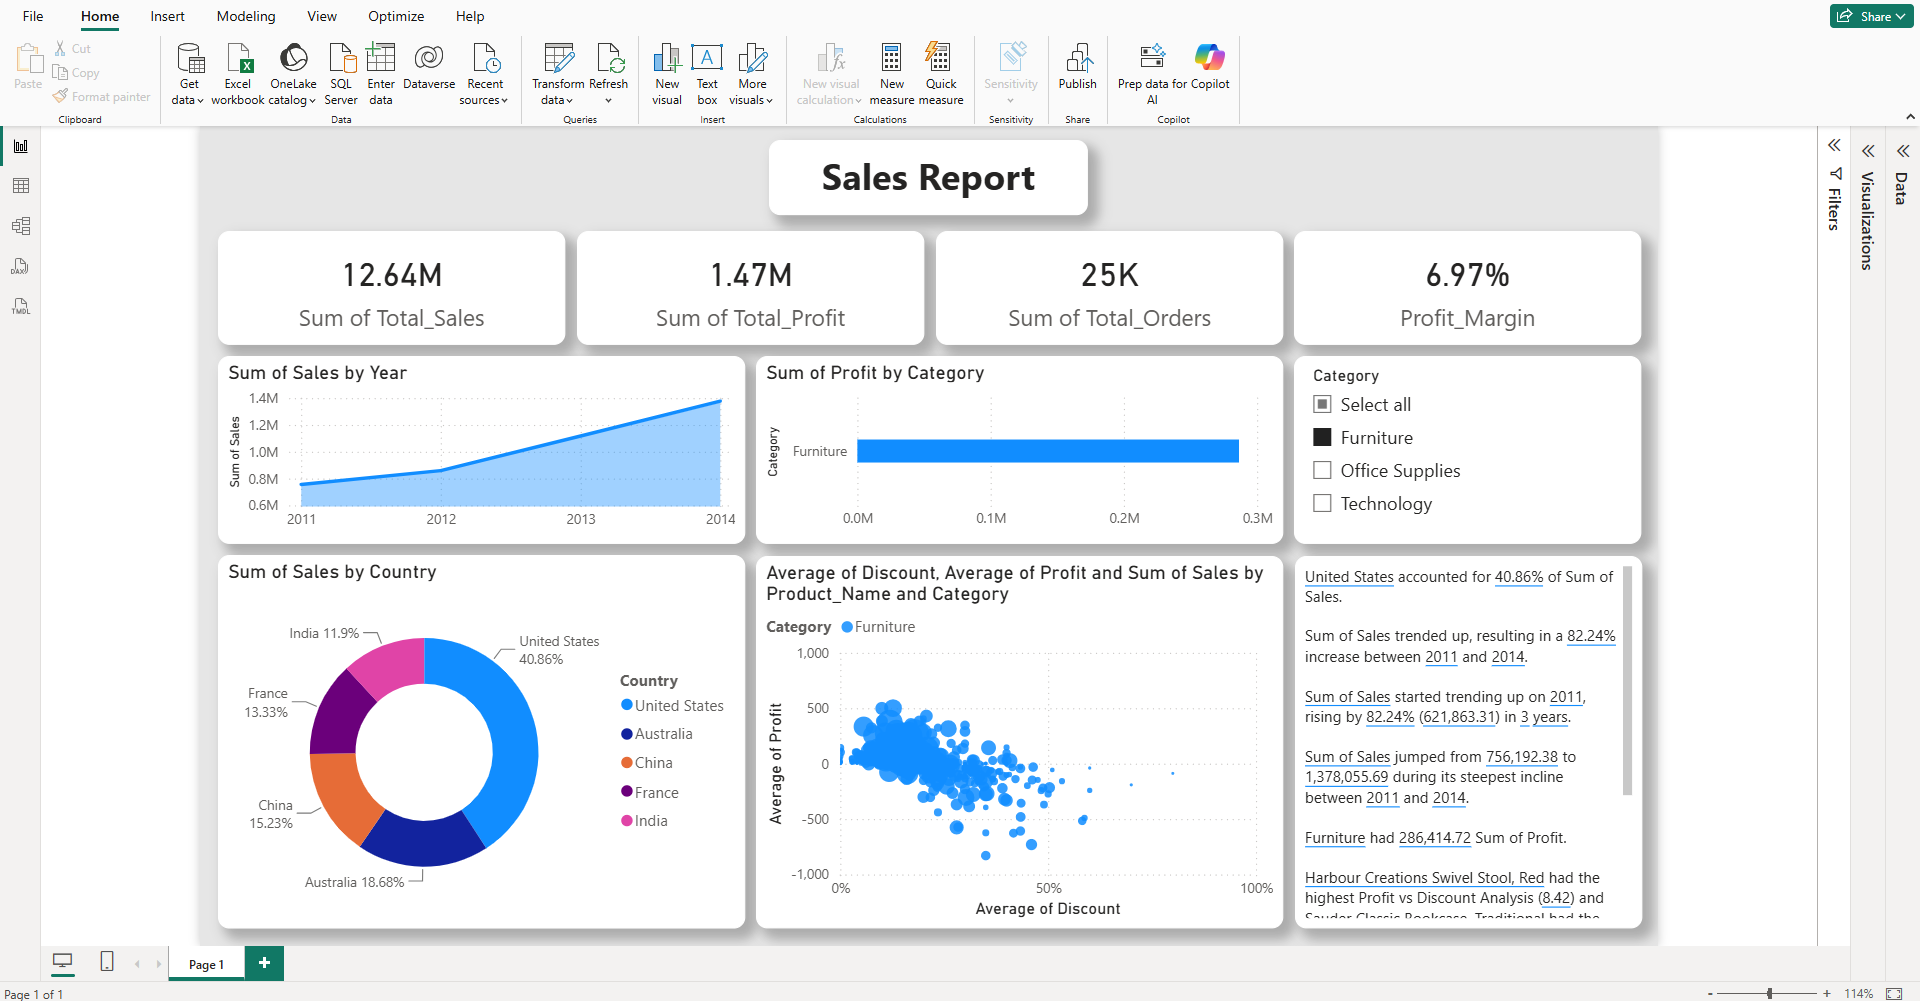

The page's visual inventory and layout, read from the dashboard file:
{"tool":"powerbi","page":{"name":"Page 1","canvas":[1280,720],"ordinal":0},"visuals":[{"type":"textbox","box":[500,12,280,66],"z":0},{"type":"card","fields":{"Values":["Sum(KPI_Summary.Total_Sales)"]},"box":[16,92.1,305,100],"z":1000},{"type":"card","fields":{"Values":["Sum(KPI_Summary.Total_Profit)"]},"box":[331,92.1,305,100],"z":2000},{"type":"card","fields":{"Values":["Sum(KPI_Summary.Total_Orders)"]},"box":[646,92.1,305,100],"z":3000},{"type":"card","fields":{"Values":["superstore_dataset2011-2015_Cleaned.Profit_Margin"]},"box":[961,92.1,305,100],"z":4000},{"type":"areaChart","fields":{"Category":["superstore_dataset2011-2015_Cleaned.Order_Date.Variation.Date Hierarchy.Year","superstore_dataset2011-2015_Cleaned.Order_Date.Variation.Date Hierarchy.Quarter","superstore_dataset2011-2015_Cleaned.Order_Date.Variation.Date Hierarchy.Month","superstore_dataset2011-2015_Cleaned.Order_Date.Variation.Date Hierarchy.Day"],"Y":["Sum(superstore_dataset2011-2015_Cleaned.Sales)"]},"box":[15.8,202.1,463,165.2],"z":5000},{"type":"clusteredBarChart","fields":{"Category":["superstore_dataset2011-2015_Cleaned.Category"],"Y":["Sum(superstore_dataset2011-2015_Cleaned.Profit)"]},"box":[488.4,202,463,165],"z":7000},{"type":"slicer","fields":{"Values":["Top_5_Profitable_Categories.Category"]},"box":[961,202,305,165],"z":9000},{"type":"donutChart","fields":{"Category":["superstore_dataset2011-2015_Cleaned.Country"],"Y":["Sum(superstore_dataset2011-2015_Cleaned.Sales)"]},"box":[15.8,376.7,463,327.5],"z":11000},{"type":"scatterChart","fields":{"Y":["Avg(superstore_dataset2011-2015_Cleaned.Profit)"],"Category":["superstore_dataset2011-2015_Cleaned.Product_Name"],"Series":["Top_5_Profitable_Categories.Category"],"Size":["Sum(superstore_dataset2011-2015_Cleaned.Sales)"],"X":["Avg(superstore_dataset2011-2015_Cleaned.Discount)"]},"box":[488.5,377.2,463,327],"z":11500},{"type":"textbox","box":[961.1,377.3,305,327],"z":12000}]}

Visuals, with their boxes on the page's 1280x720 design canvas (x1, y1, x2, y2). These are canvas units, not pixel positions in the 1920x1001 screenshot, which may show the page scaled, cropped or inside an application window:
textbox: [500, 12, 780, 78]
card - Sum(KPI_Summary.Total_Sales): [16, 92, 321, 192]
card - Sum(KPI_Summary.Total_Profit): [331, 92, 636, 192]
card - Sum(KPI_Summary.Total_Orders): [646, 92, 951, 192]
card - superstore_dataset2011-2015_Cleaned.Profit_Margin: [961, 92, 1266, 192]
areaChart - superstore_dataset2011-2015_Cleaned.Order_Date.Variation.Date Hierarchy.Year x superstore_dataset2011-2015_Cleaned.Order_Date.Variation.Date Hierarchy.Quarter: [16, 202, 479, 367]
clusteredBarChart - superstore_dataset2011-2015_Cleaned.Category x Sum(superstore_dataset2011-2015_Cleaned.Profit): [488, 202, 951, 367]
slicer - Top_5_Profitable_Categories.Category: [961, 202, 1266, 367]
donutChart - superstore_dataset2011-2015_Cleaned.Country x Sum(superstore_dataset2011-2015_Cleaned.Sales): [16, 377, 479, 704]
scatterChart - Avg(superstore_dataset2011-2015_Cleaned.Profit) x superstore_dataset2011-2015_Cleaned.Product_Name: [488, 377, 952, 704]
textbox: [961, 377, 1266, 704]
